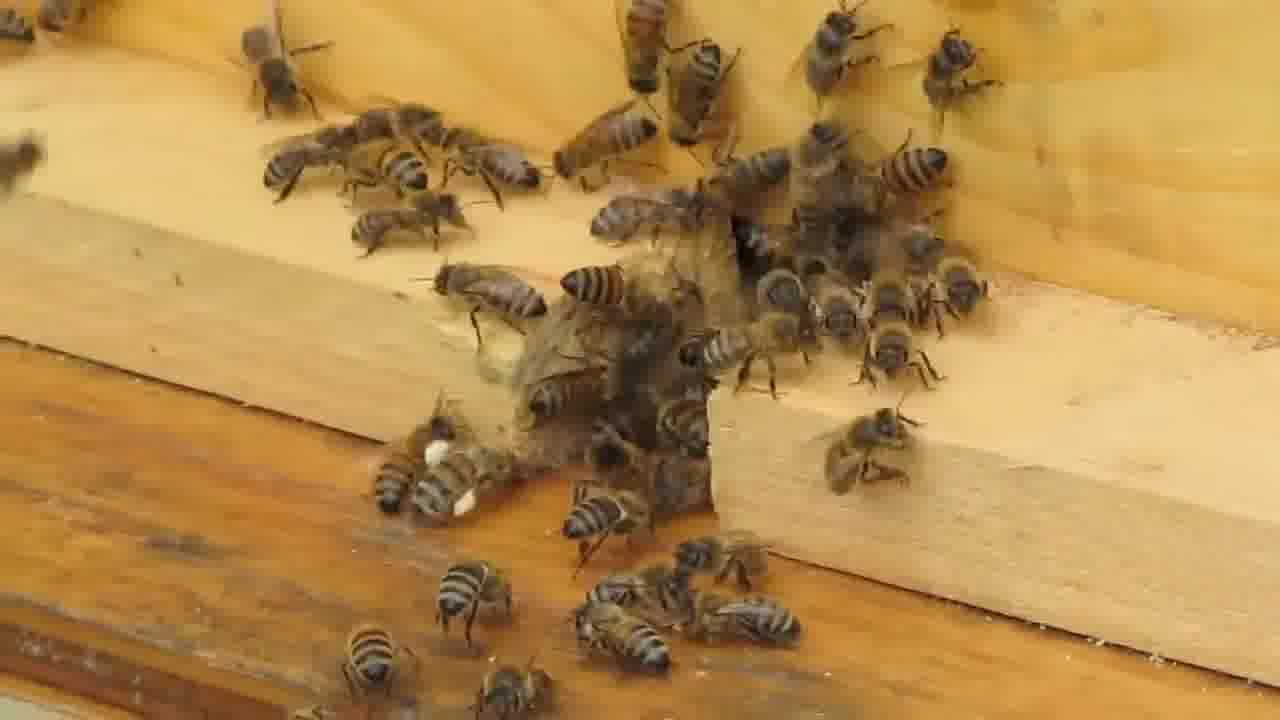pollen: (413, 440, 518, 529)
